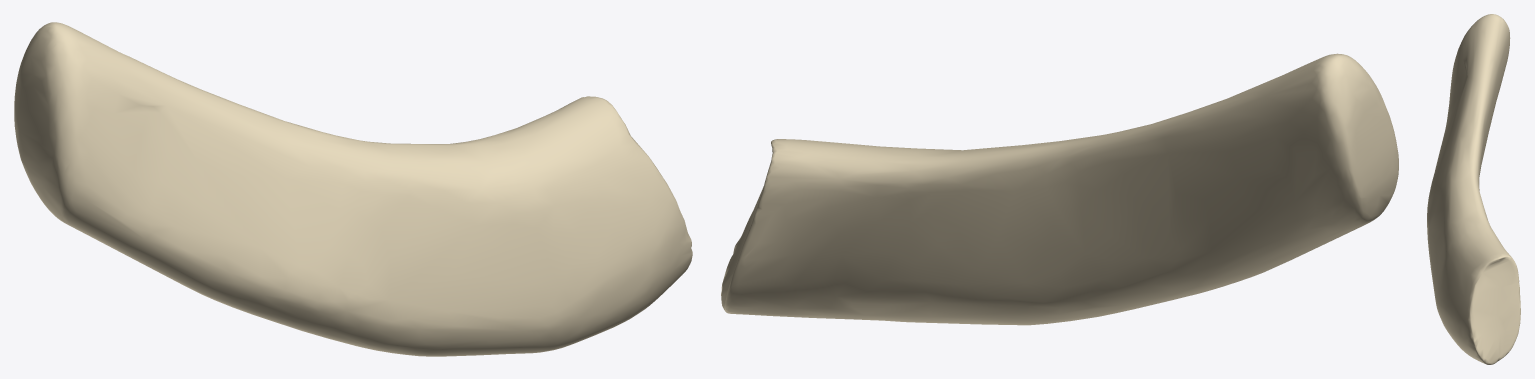
Rendered from esqueleto-costal-cartilage-of-fifth-rib-l.glb.
The picture shows the model from 3 angles, left to right: view 1: azimuth 30°, elevation 25°; view 2: azimuth 150°, elevation 25°; view 3: azimuth 270°, elevation 25°; orthographic projection. The views are drawn at different scales.
Parts seen in each view (by area): view 1: Costal cartilage of fifth rib.l; view 2: Costal cartilage of fifth rib.l; view 3: Costal cartilage of fifth rib.l.
Boxes of the visible parts, bbox=[...] form: Costal cartilage of fifth rib.l: bbox=[14, 22, 692, 356]; Costal cartilage of fifth rib.l: bbox=[721, 53, 1398, 325]; Costal cartilage of fifth rib.l: bbox=[1427, 14, 1520, 364].
Size of the model in its own units: 0.0656 by 0.0394 by 0.0163.
